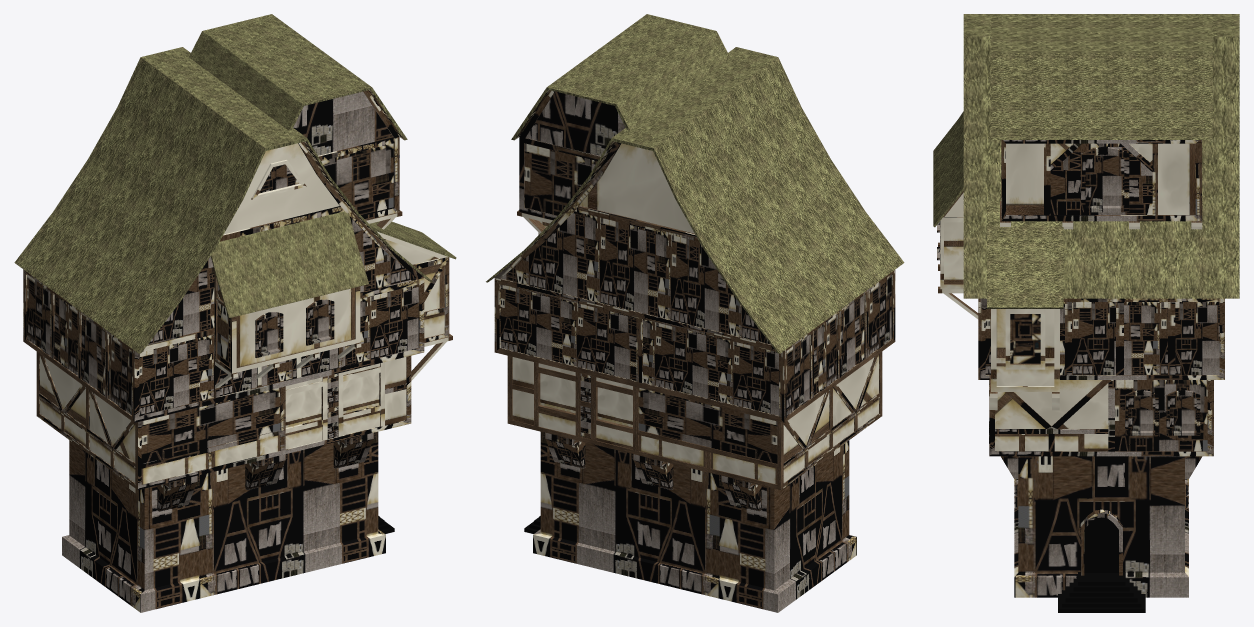
Rendered from House.dae.
3 views of the same model, side by side, from view 1: azimuth 30°, elevation 25°; view 2: azimuth 150°, elevation 25°; view 3: azimuth 270°, elevation 25° (orthographic). The views are drawn at different scales.
Visible parts, largest first — view 1: Cube, Cube_019, Cube_020, Cube_022, Cube_009; view 2: Cube, Cube_019, Cube_022; view 3: Cube, Cube_022, Cube_019, Cube_009, Cube_020, Cube_001, Cube_023.
Part boxes in pixels (box(x1,y1,x2,y2)): Cube: box(23, 142, 424, 612); Cube_019: box(14, 47, 432, 353); Cube_020: box(210, 211, 368, 388); Cube_022: box(189, 14, 407, 229); Cube_009: box(369, 221, 456, 384); Cube: box(494, 142, 895, 612); Cube_019: box(486, 47, 904, 353); Cube_022: box(511, 14, 729, 233); Cube: box(978, 298, 1224, 597); Cube_022: box(990, 15, 1212, 229); Cube_019: box(963, 14, 1239, 298); Cube_009: box(987, 201, 1063, 410); Cube_020: box(933, 111, 978, 319); Cube_001: box(1058, 572, 1145, 612); Cube_023: box(1080, 509, 1122, 575).
Bounding box in the file's own units: 6.87 × 5.01 × 9.59.
Materials: 12 (12 with a texture image).
